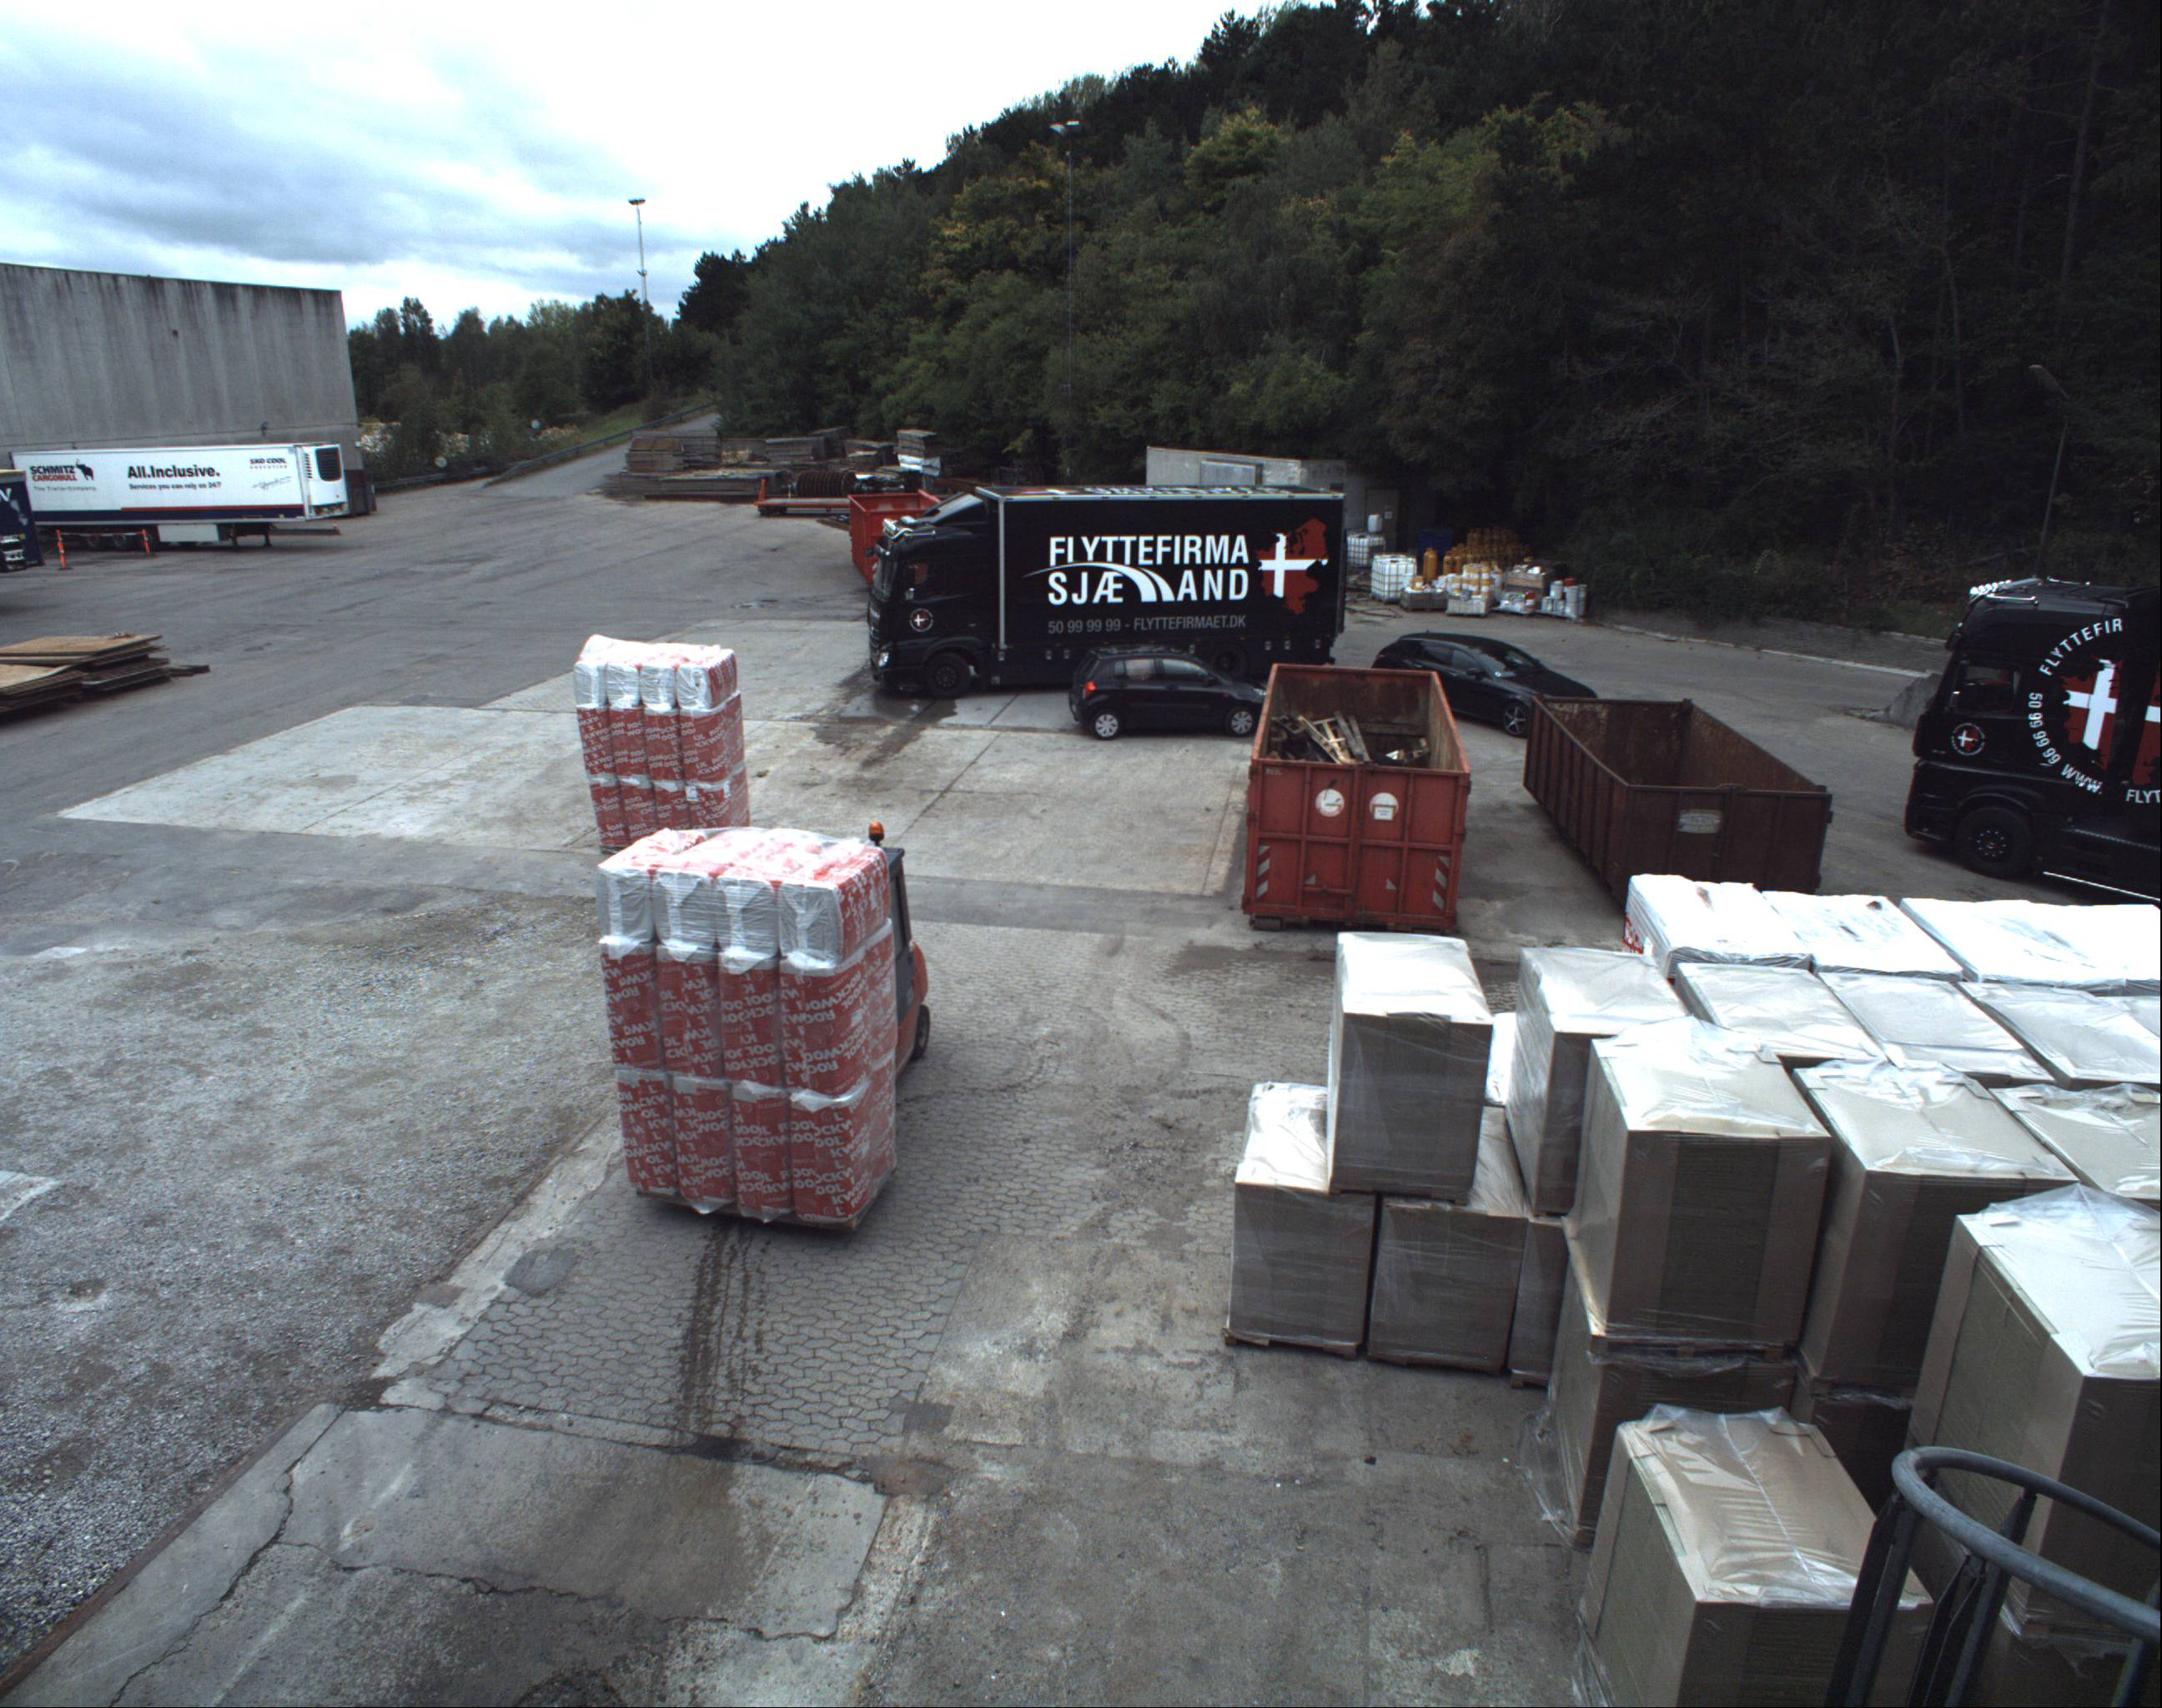rockwool_batts: (588, 820, 897, 1218), (572, 635, 753, 855)
